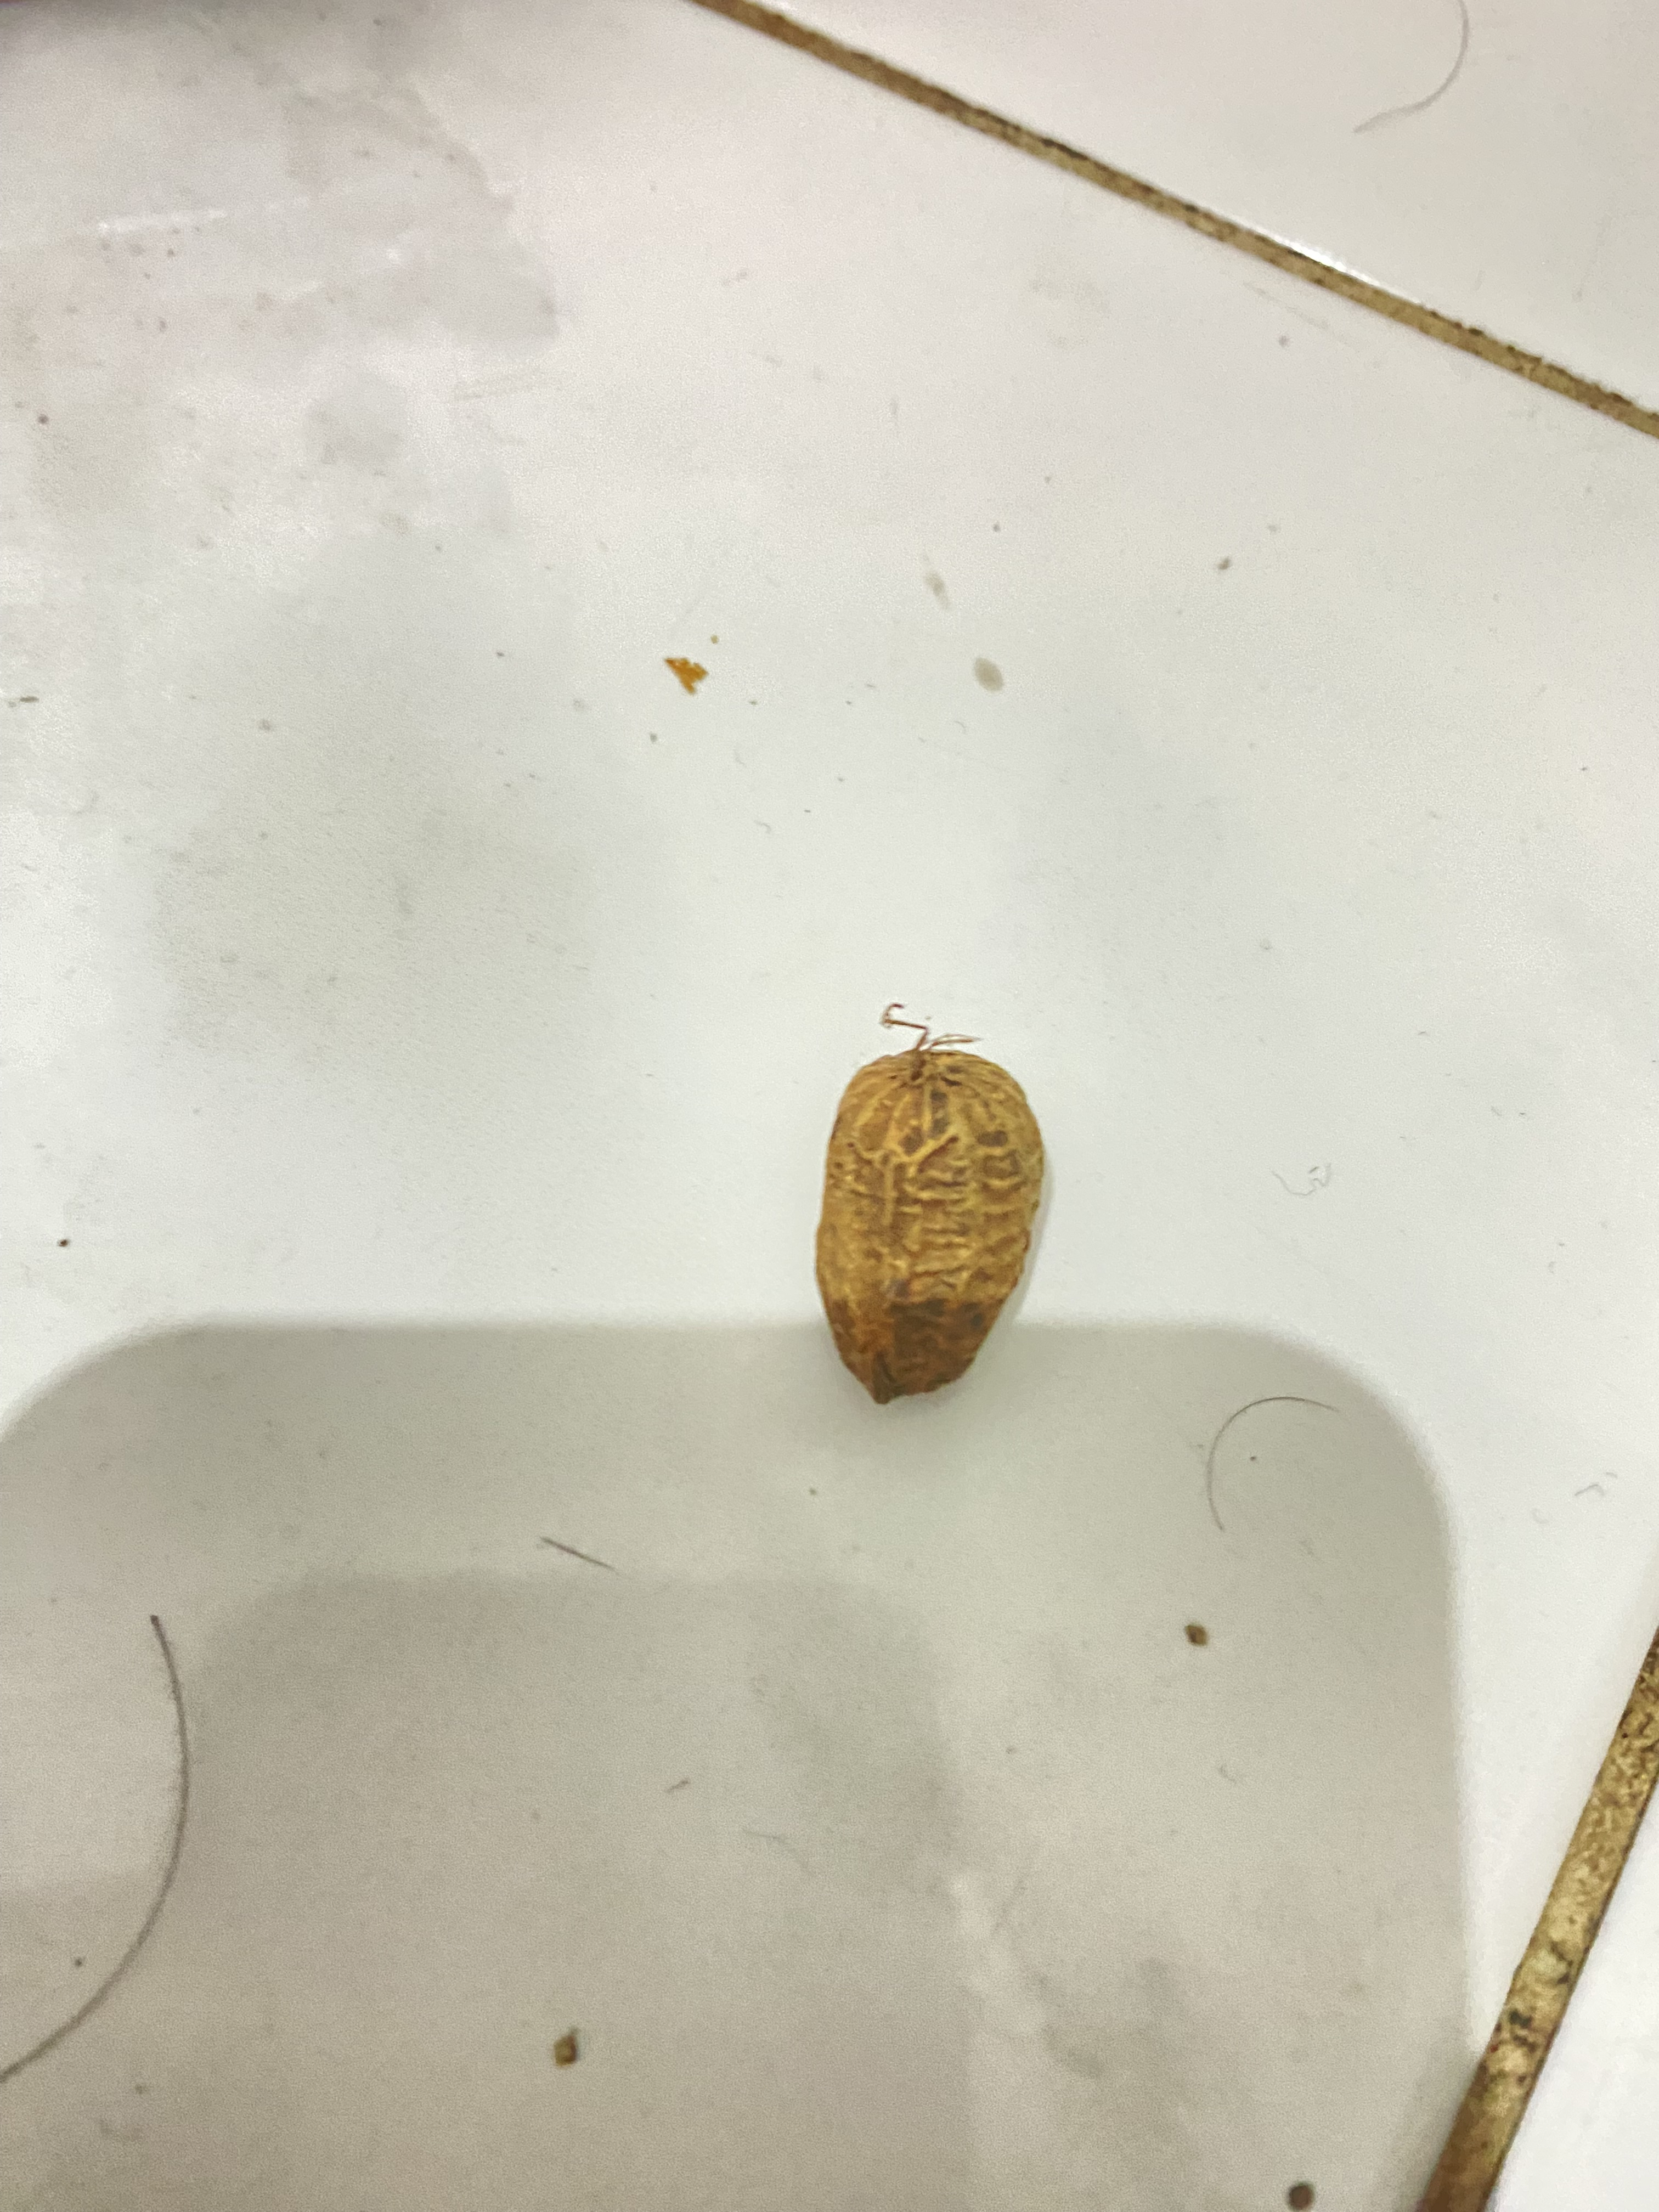kacang1: (746, 979, 1129, 1414)
